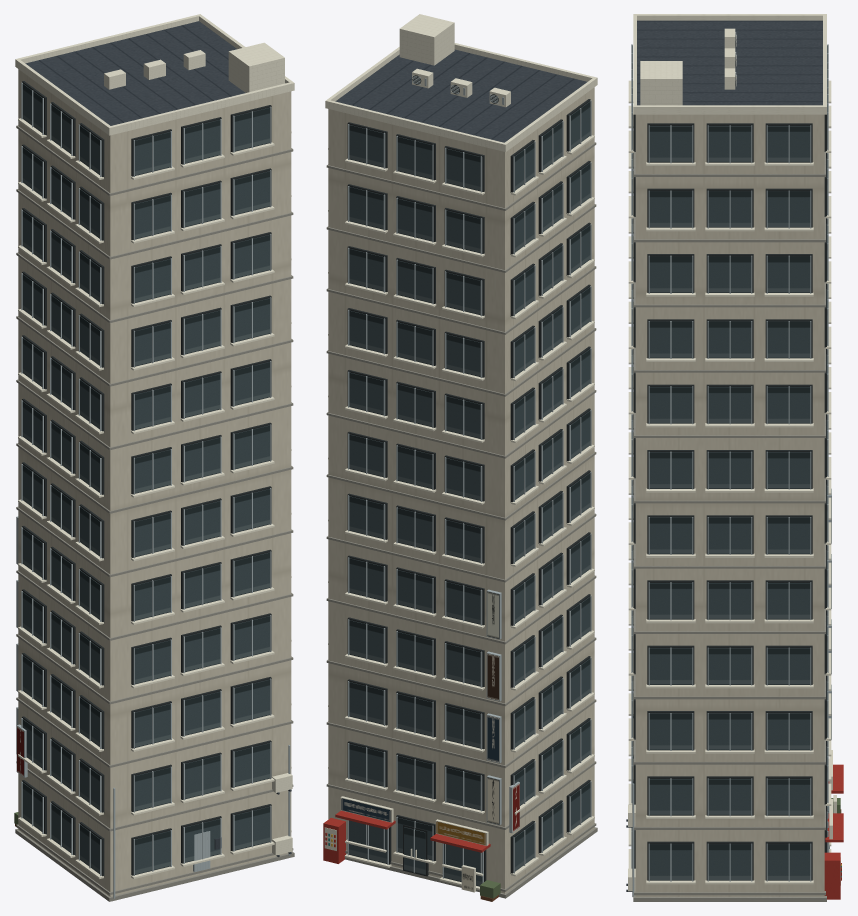
Rendered from office_006.obj.
3 renders of one model, left to right at view 1: azimuth 30°, elevation 25°; view 2: azimuth 150°, elevation 25°; view 3: azimuth 270°, elevation 25°, orthographic. The views are drawn at different scales.
Visible parts, largest first — view 1: office_006; view 2: office_006; view 3: office_006.
Part boxes in pixels (left/top/right/bottom): office_006: left=14, top=14, right=294, bottom=901; office_006: left=323, top=14, right=597, bottom=901; office_006: left=626, top=14, right=843, bottom=901.
Size of the model in its own units: 9.67 by 38.3 by 9.2.
Materials: 1 (1 with a texture image).
